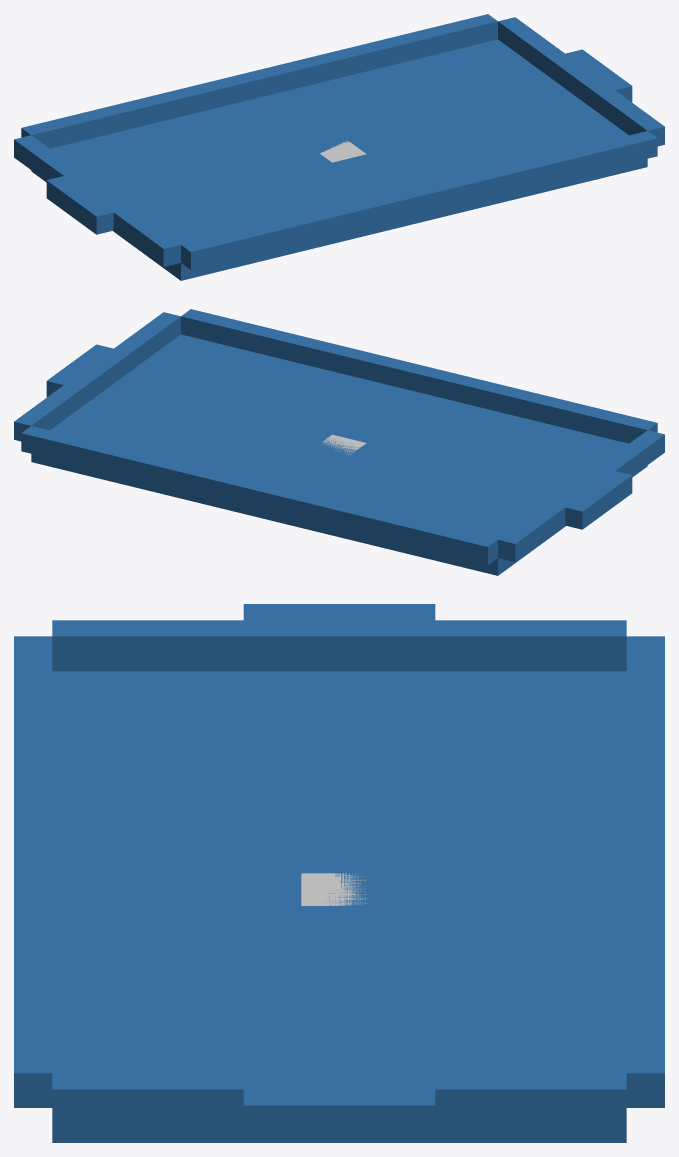
File: salver.fbx
The picture shows the model from 3 angles, top to bottom: view 1: azimuth 30°, elevation 25°; view 2: azimuth 150°, elevation 25°; view 3: azimuth 270°, elevation 25°; orthographic projection. The views are drawn at different scales.
Visible parts, largest first — view 1: salver, Cube; view 2: salver, Cube; view 3: salver, Cube.
Part boxes in pixels (x1,y1,x2,y2): salver: (14,14,664,280); Cube: (320,140,366,162); salver: (14,309,664,575); Cube: (322,434,366,454); salver: (14,604,664,1142); Cube: (301,873,367,905).
Bounding box in the file's own units: 3100 × 300 × 1700.
Materials: 2 (1 with a texture image).
